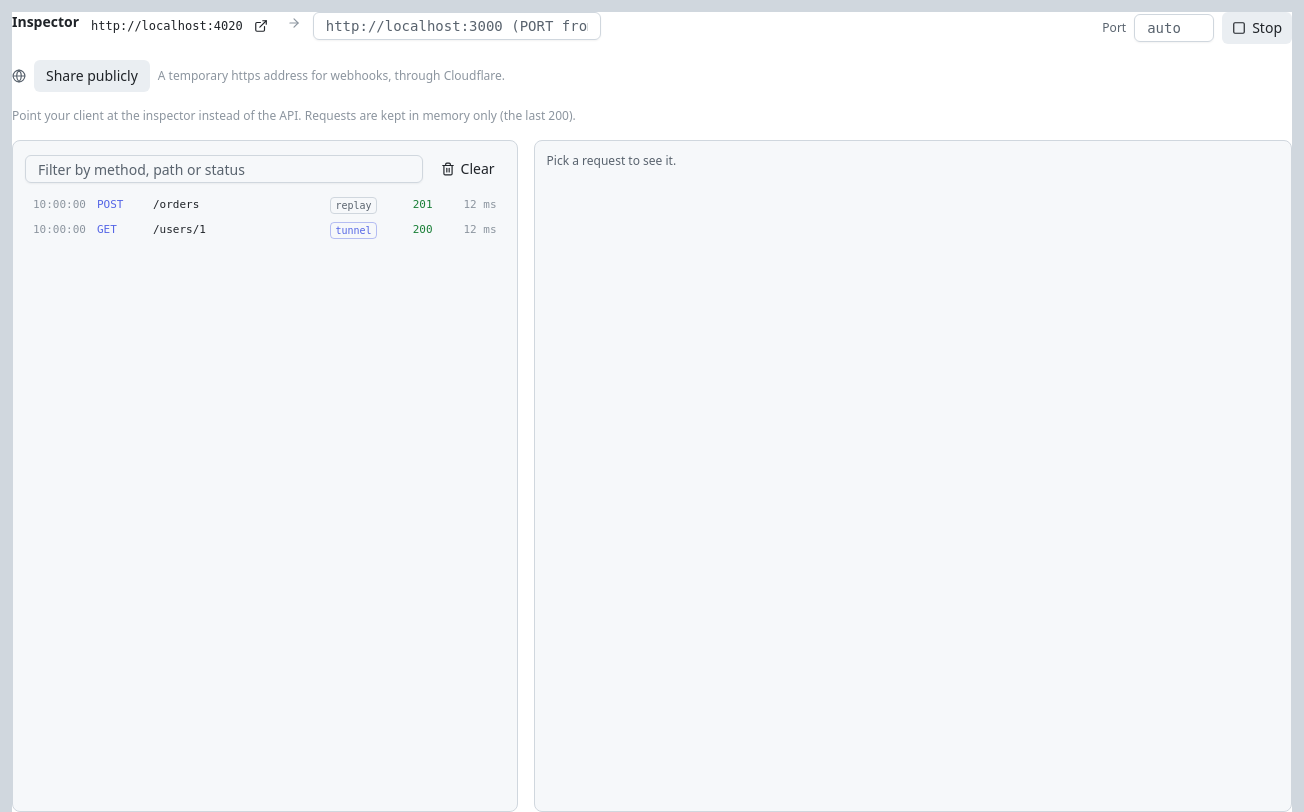
Test: InspectorPanel › lists requests newest first, filters them, and shows one with masked headers
The width and height of the screenshot is (1304, 812).
Type "orders" into the field named "Filter requests" at (224, 169), box [25,155,423,183]
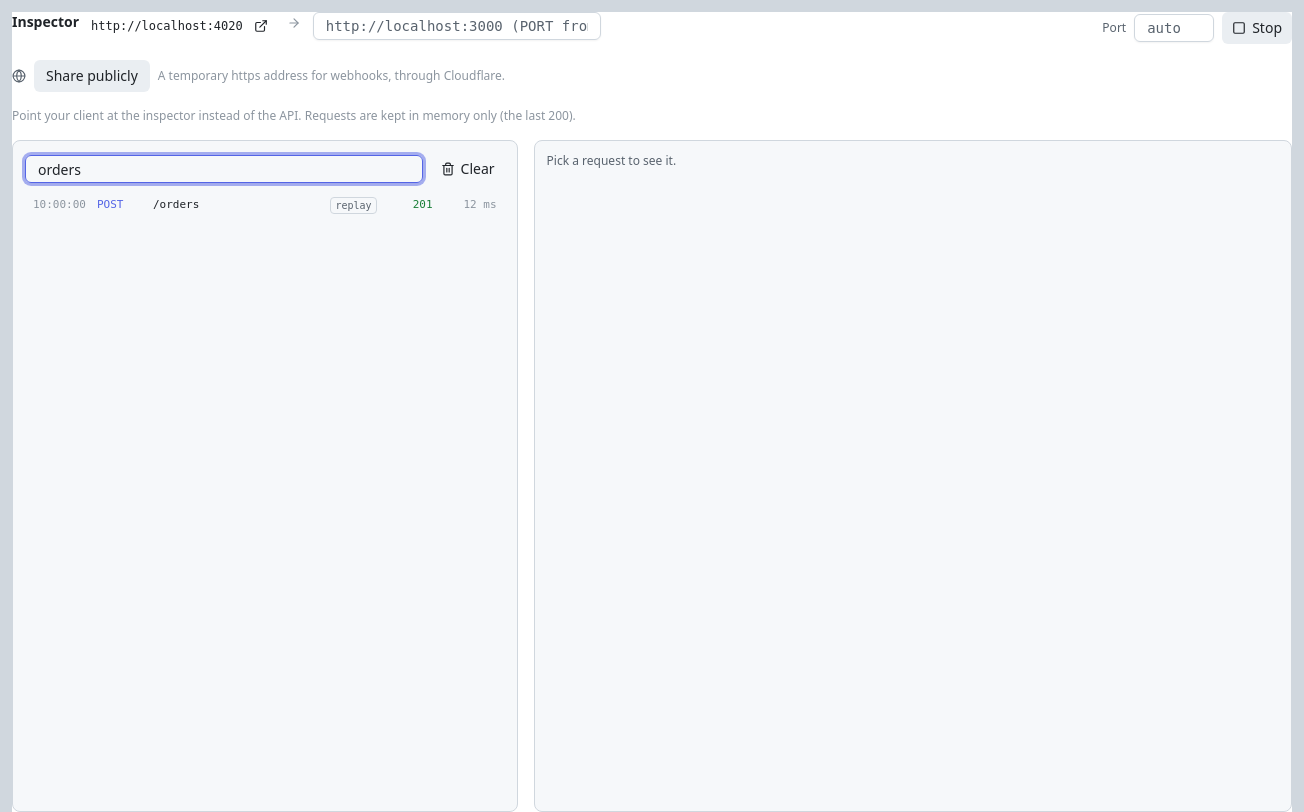
Clear the field named "Filter requests" at (224, 169), box [25,155,423,183]
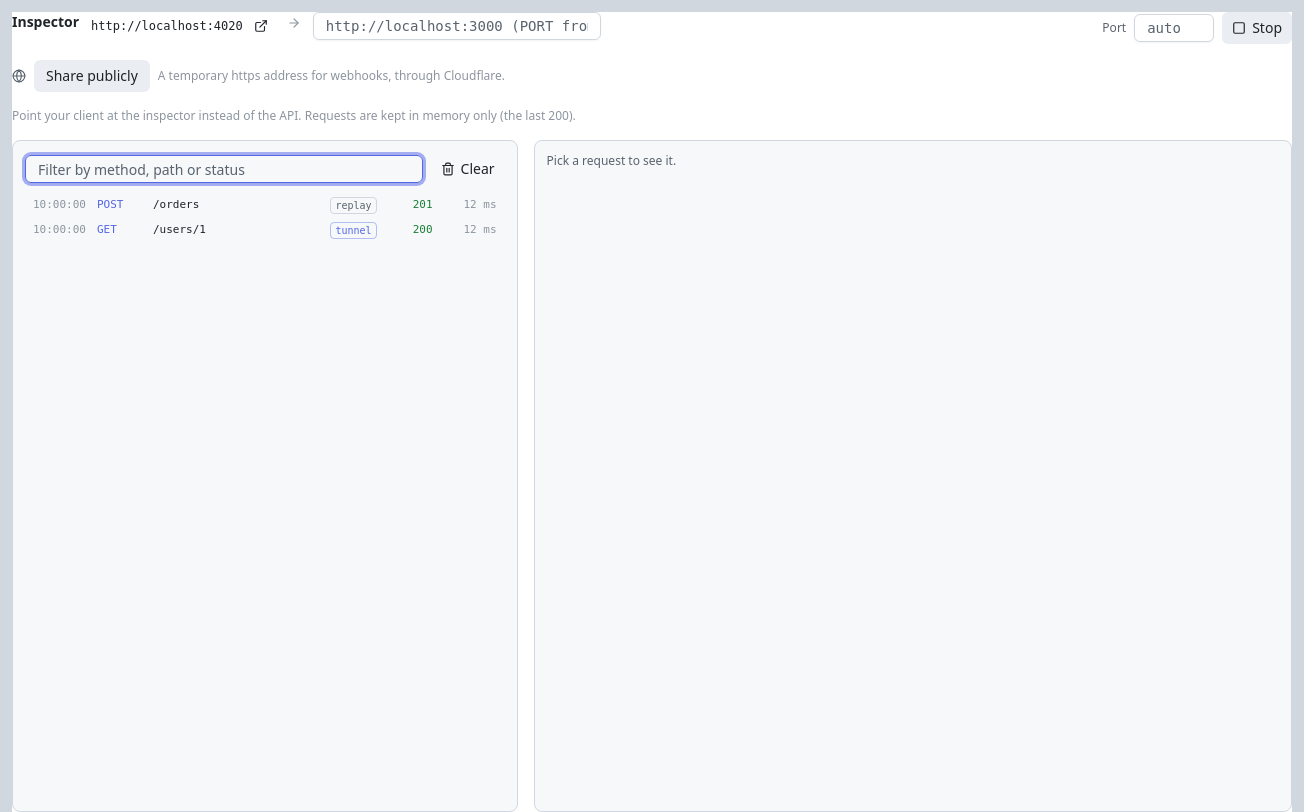
Click the button "10:00:00 GET /users/1 tunnel 200 12 ms" at (59, 230), box [25,218,505,243]
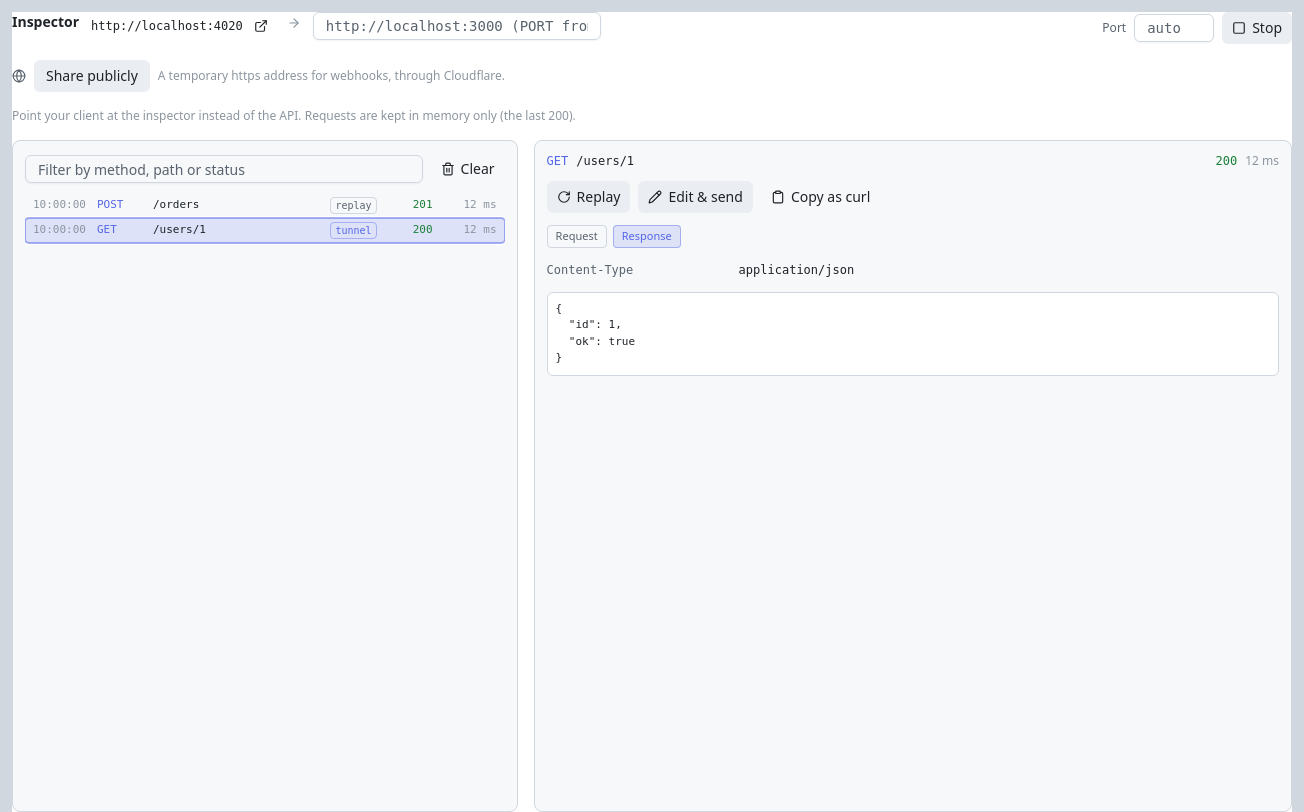
Result: the text named "Body" shows "\"ok\": true" at [556,302,635,364]
Click the button "Request" at (577, 236), box [547,225,607,248]
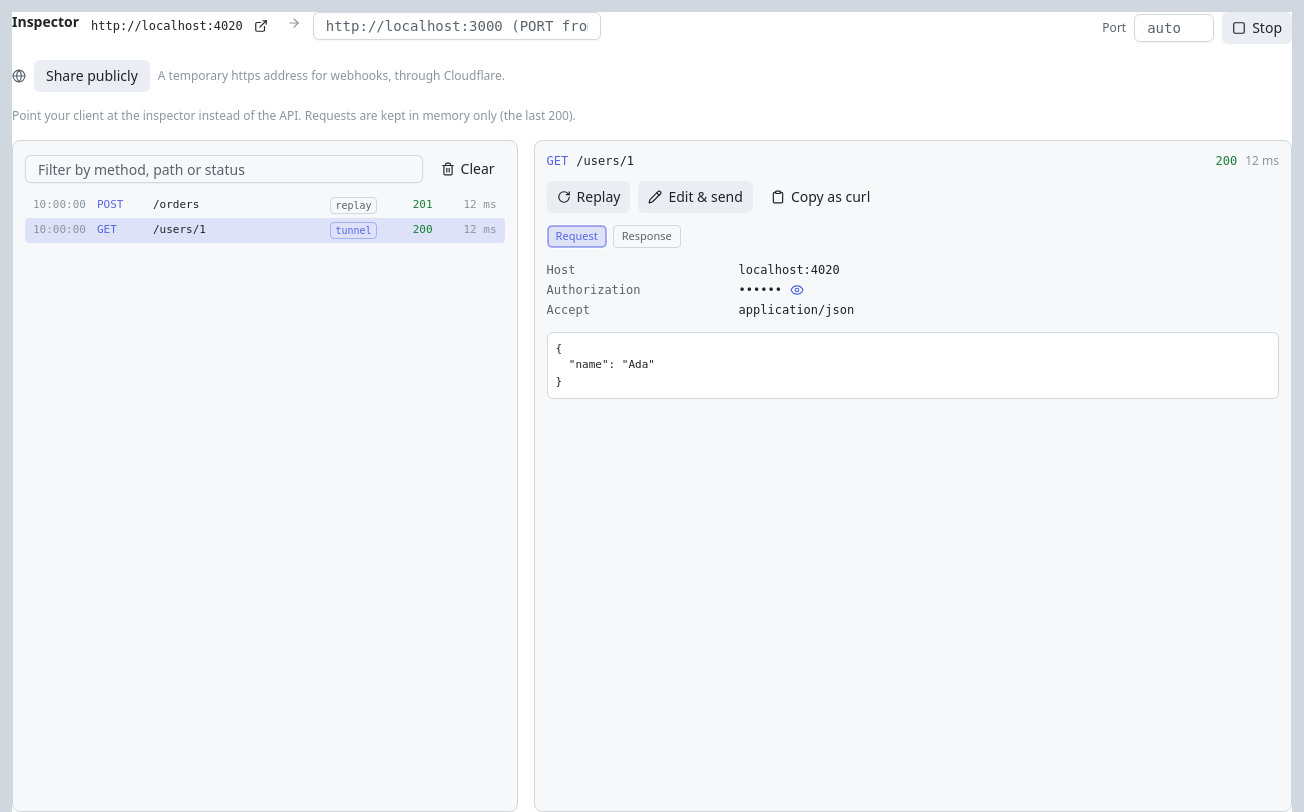
Result: the table named "Request headers" shows "••••••" at [739,282,782,296]
Click the button named "Reveal Authorization" at (797, 290), box [790,282,804,296]
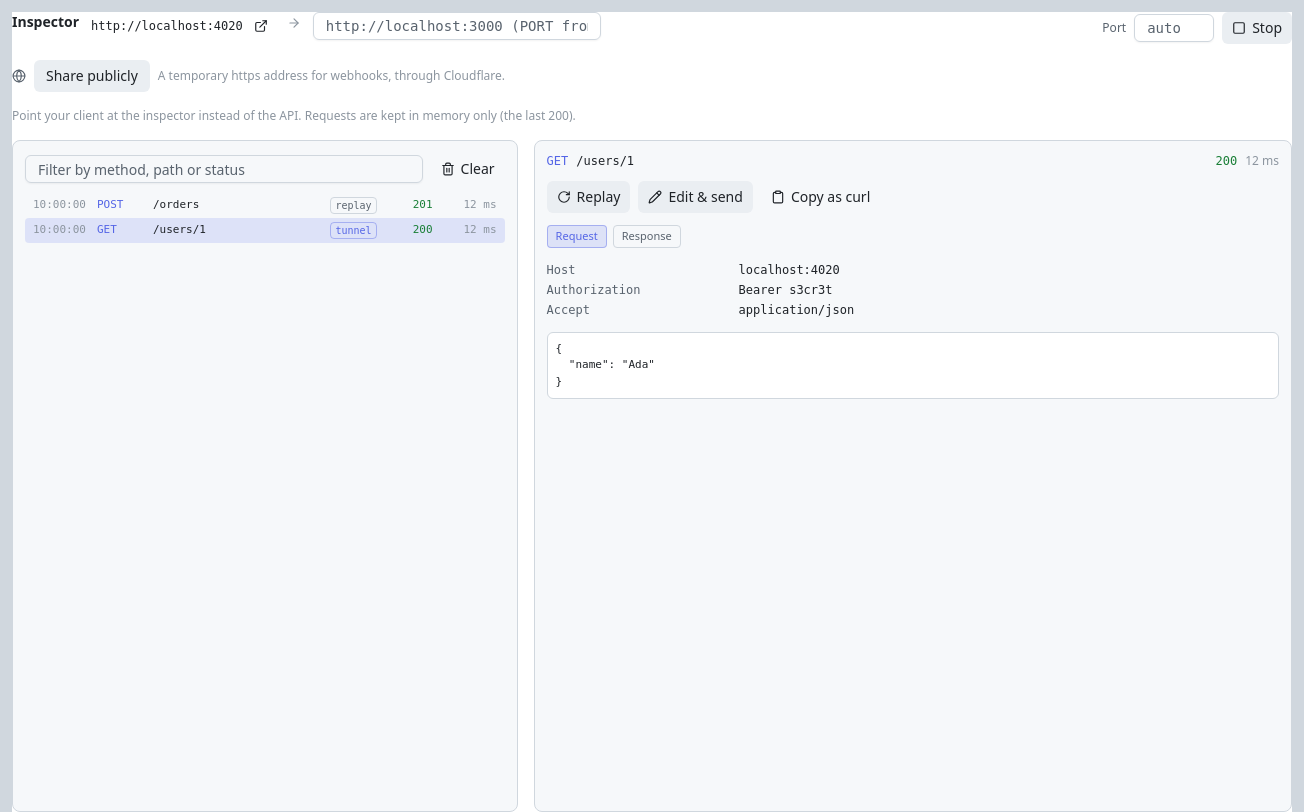
Result: the text "Bearer s3cr3t" is shown at [739,280,1279,300]
